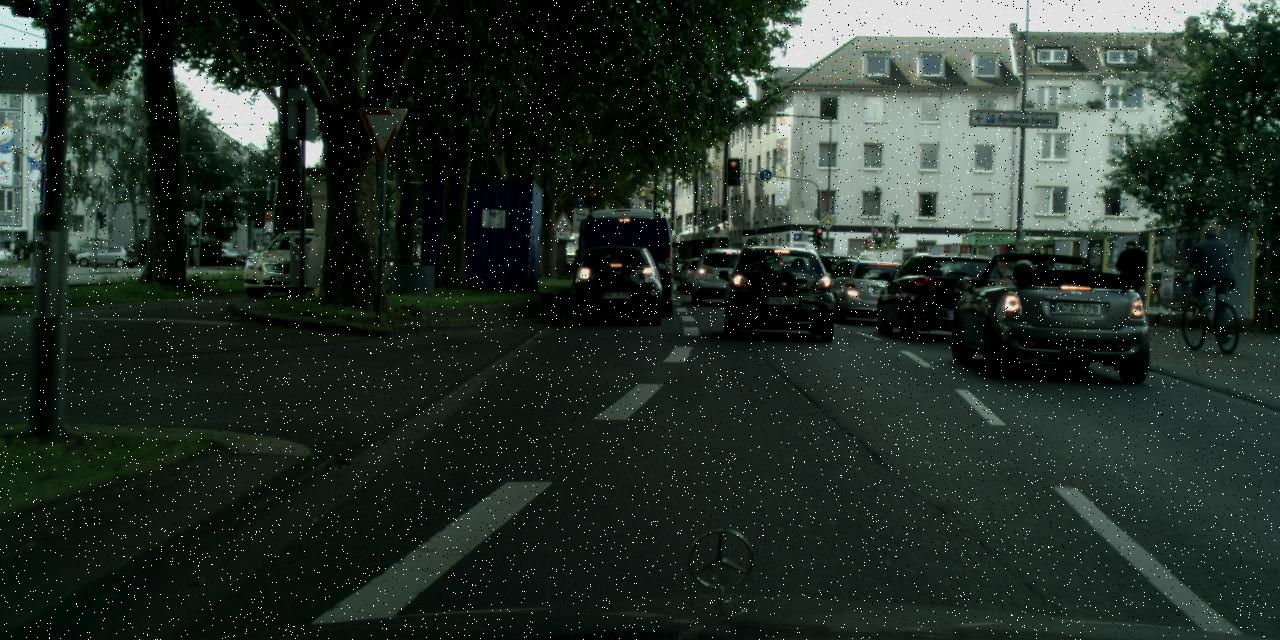ped: (1189, 222, 1234, 330), (1112, 239, 1148, 325)
